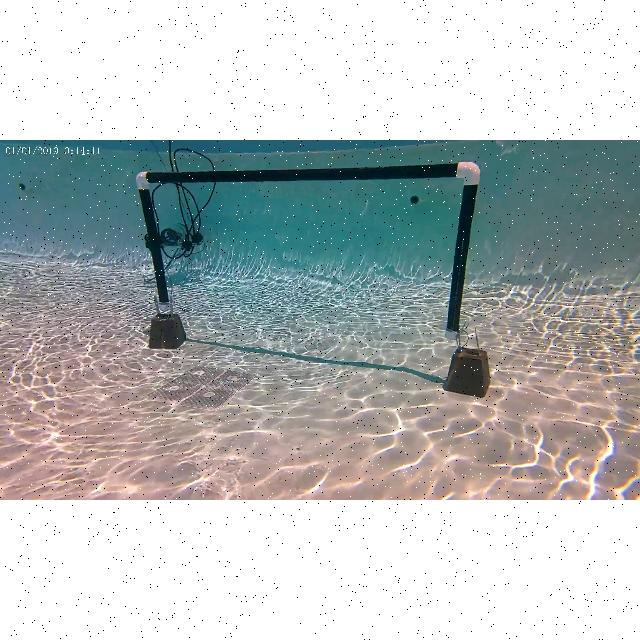prequal gate: (136, 162, 480, 340)
prequal gate leg l: (134, 167, 172, 309)
prequal gate leg r: (446, 163, 482, 341)
